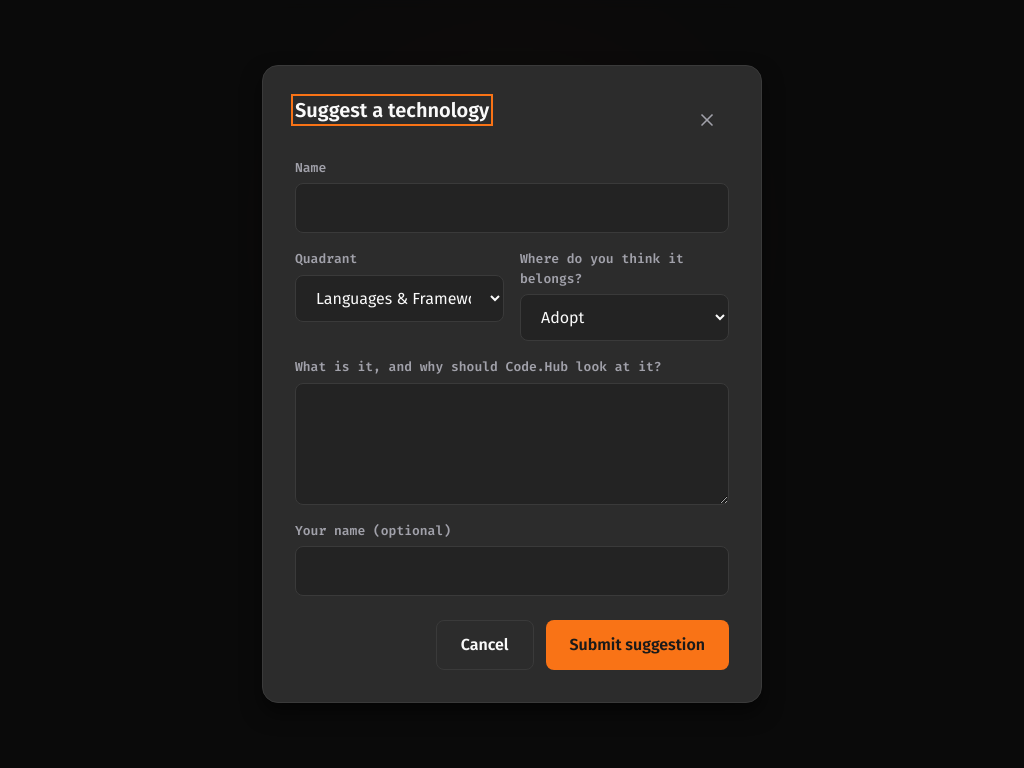
SuggestModal › blocks submission and surfaces every error when required fields are blank
Click the button "Submit suggestion". click: [637, 645]
box: x1=546 y1=620 x2=729 y2=670
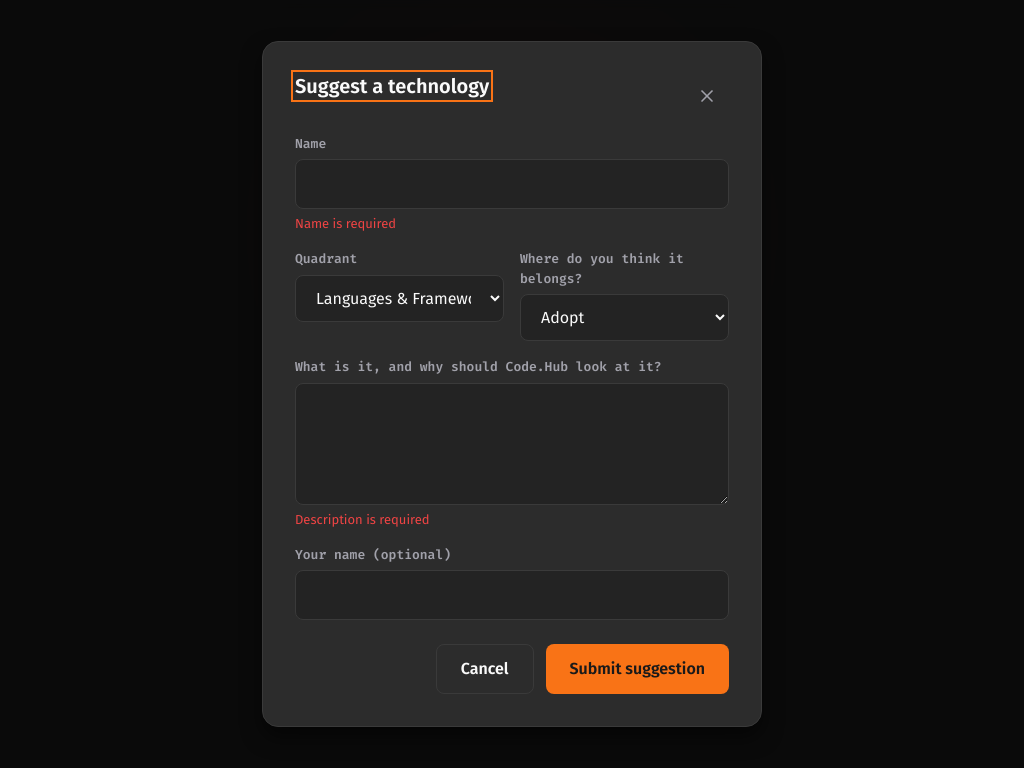
Expected: the text "Name is required" is shown, x1=295 y1=216 x2=396 y2=231
Expected: the text "Description is required" is shown, x1=295 y1=512 x2=430 y2=527
